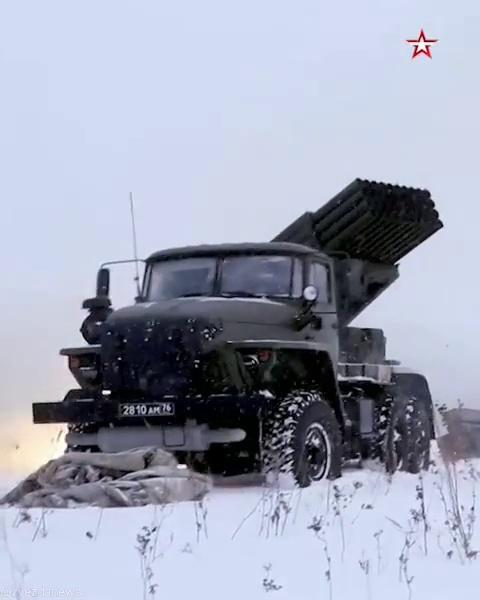MIL_SAM_TEL: (54, 174, 450, 491)
